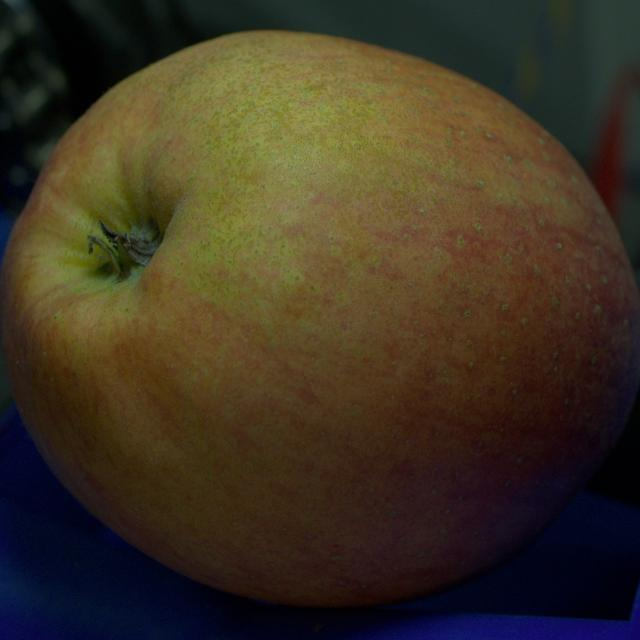apple: (0, 31, 639, 606)
